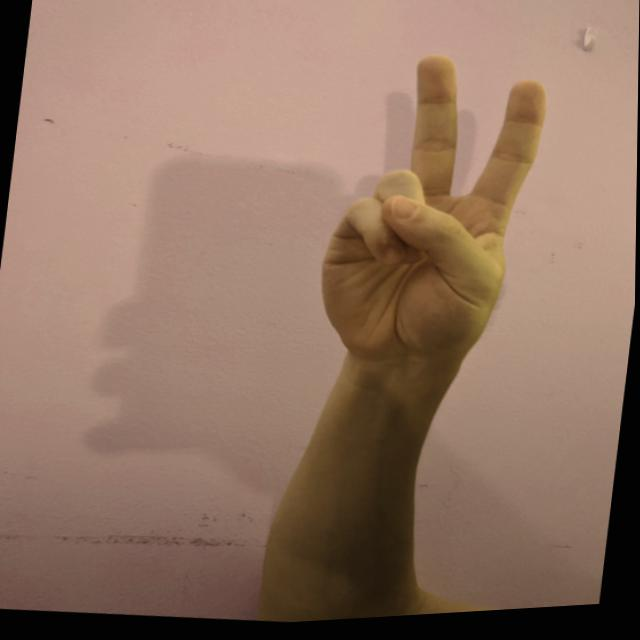V: (307, 40, 559, 382)
